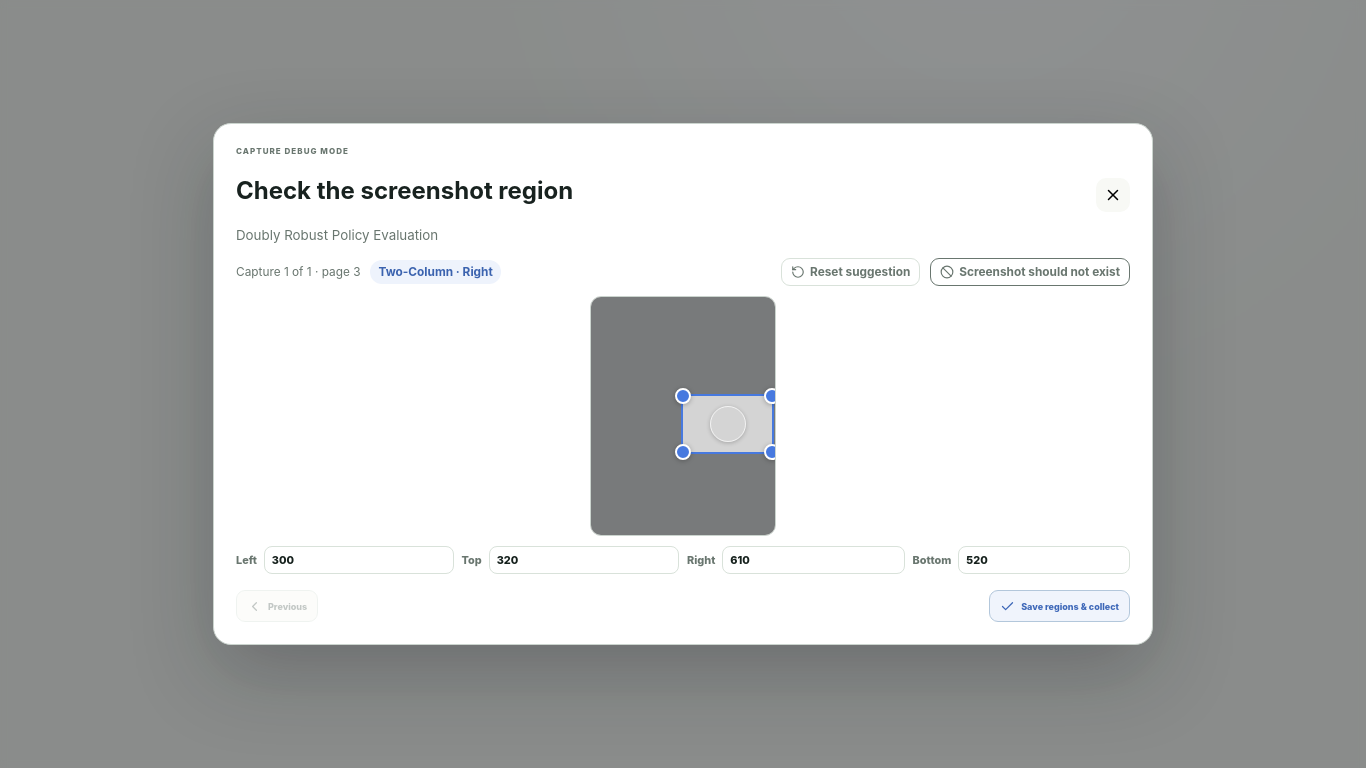
Test: CaptureRegionReviewDialog duplicate decisions › rejects a screenshot, optionally attaches it, and omits its crop override
The width and height of the screenshot is (1366, 768).
Later steps or results of the test are not shown.
Click the button "Screenshot should not exist" at (1030, 272), box [930,258,1130,286]
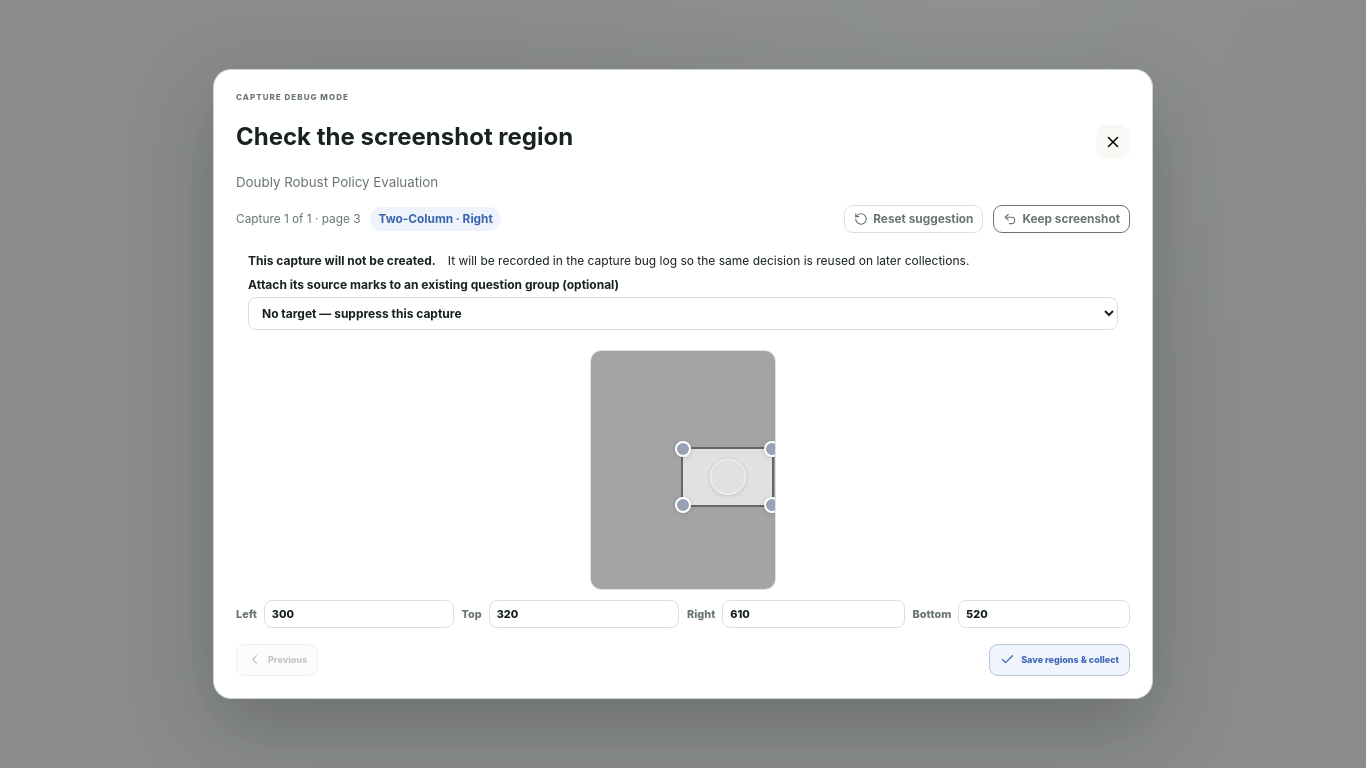
Now the text "This capture will not be created." is shown, box [248,253,436,268]
